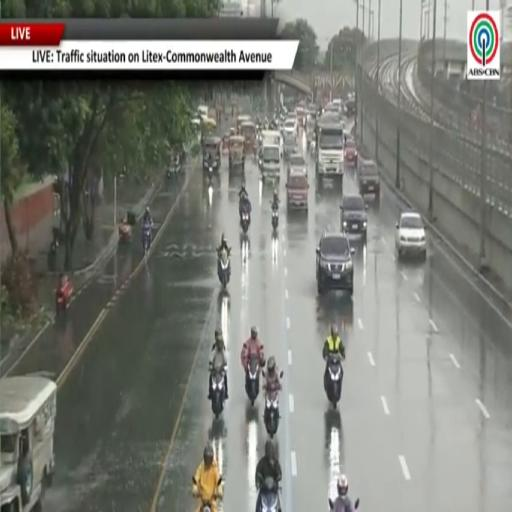car: (316, 232, 354, 295), (396, 212, 426, 260), (340, 195, 367, 238), (357, 158, 380, 199), (286, 172, 308, 210), (287, 153, 307, 175), (283, 135, 296, 162), (345, 138, 357, 166), (282, 118, 297, 137)
jeepney: (0, 376, 56, 511), (259, 143, 281, 181), (203, 136, 221, 172), (259, 131, 282, 157), (229, 136, 245, 171), (240, 121, 256, 154), (202, 118, 217, 140), (236, 115, 251, 134), (222, 132, 230, 153), (197, 105, 208, 117)
motorcycle: (325, 356, 342, 407), (257, 477, 281, 511), (199, 476, 222, 511), (210, 367, 225, 419), (245, 356, 260, 406), (264, 391, 279, 438), (56, 278, 73, 315), (218, 250, 230, 287), (119, 222, 132, 243), (240, 210, 250, 234), (143, 226, 151, 255), (272, 210, 278, 232), (207, 166, 213, 184), (328, 499, 334, 511)
truck: (315, 115, 344, 182)
